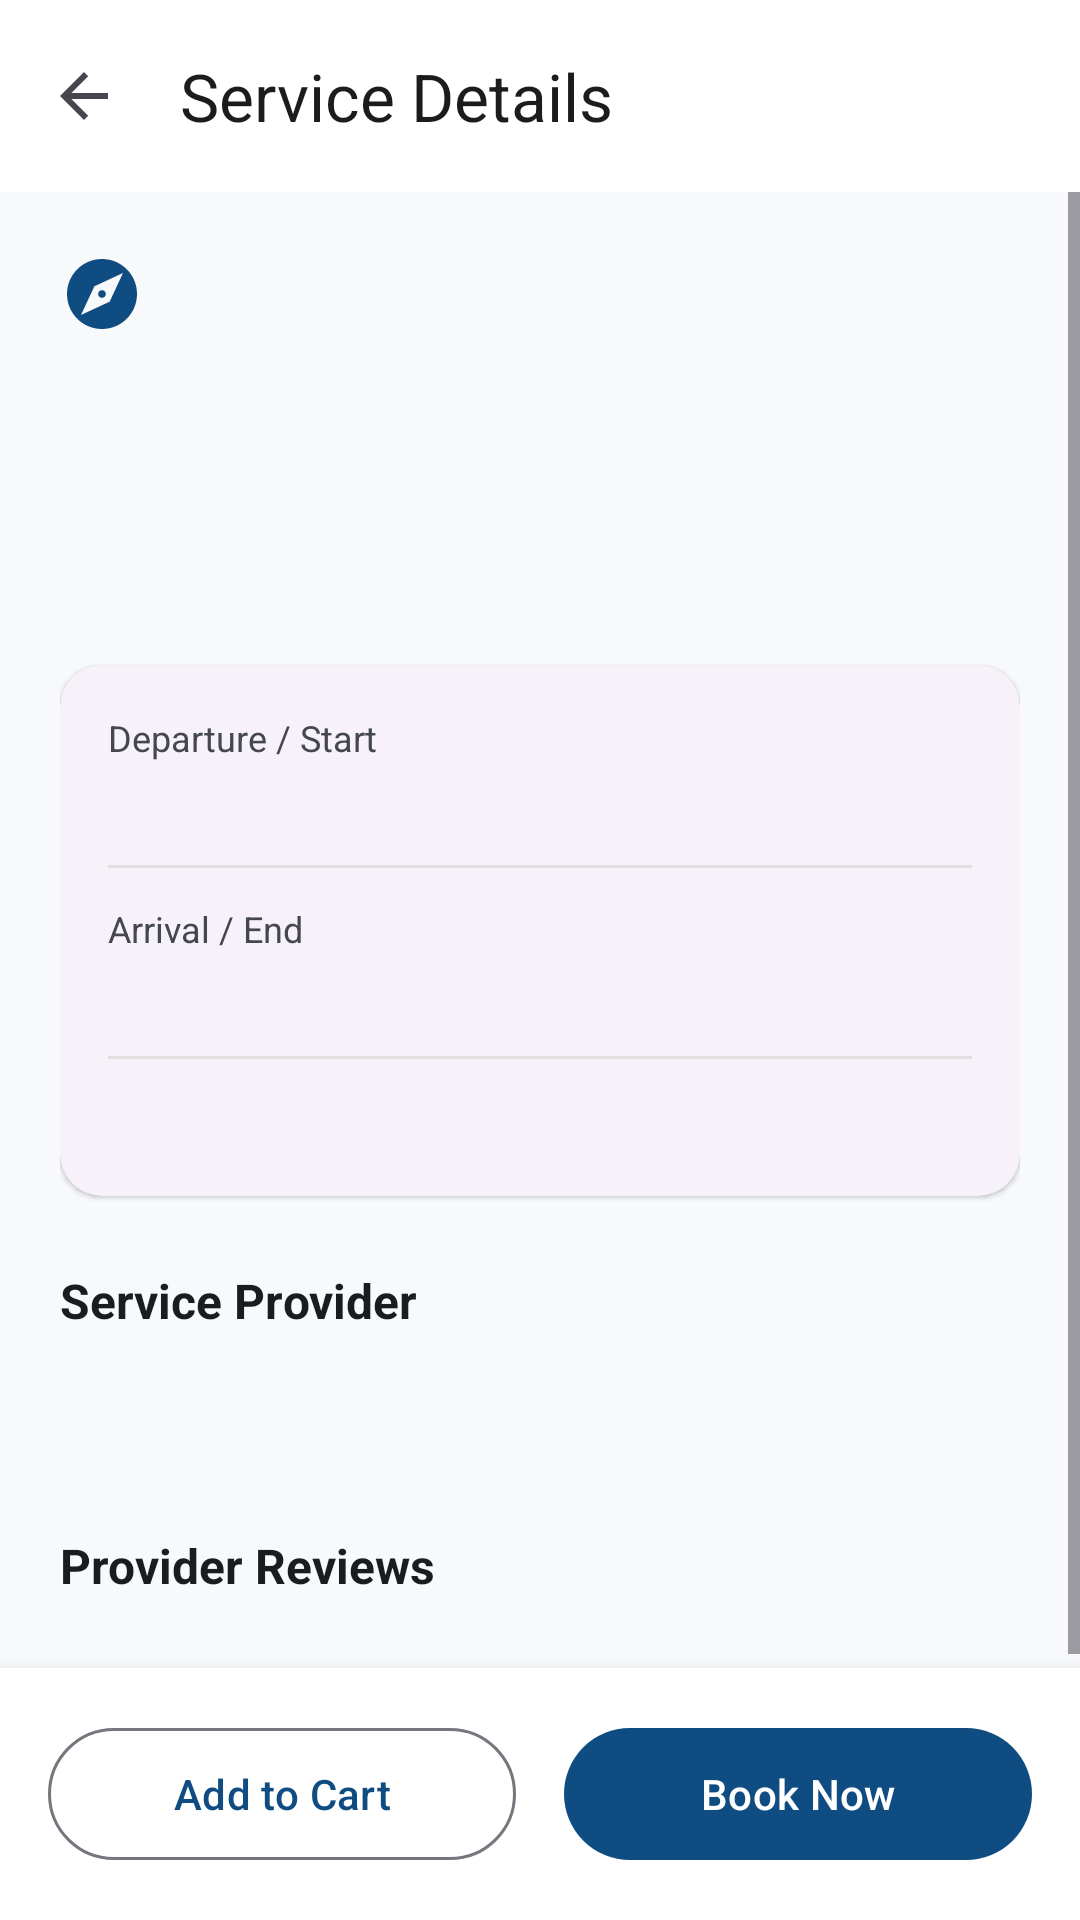

Icons on this 1080 × 1920 Android screen, each with the point to tap as (x,y):
explore: (102,294)
